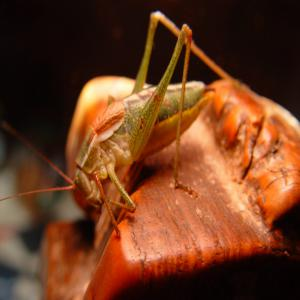locust: (61, 42, 225, 204)
